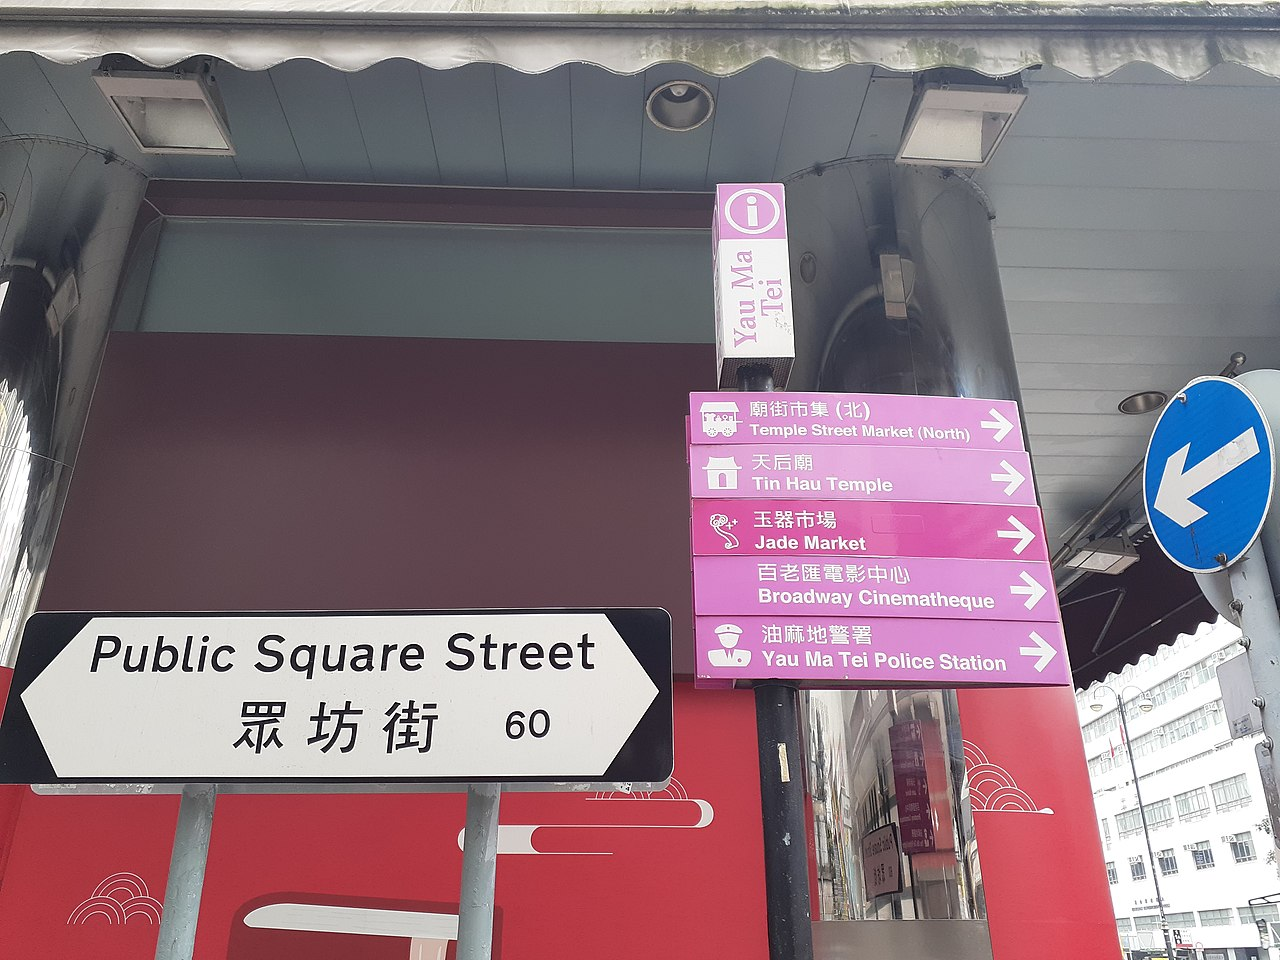Turn Left: (1135, 375, 1280, 570)
